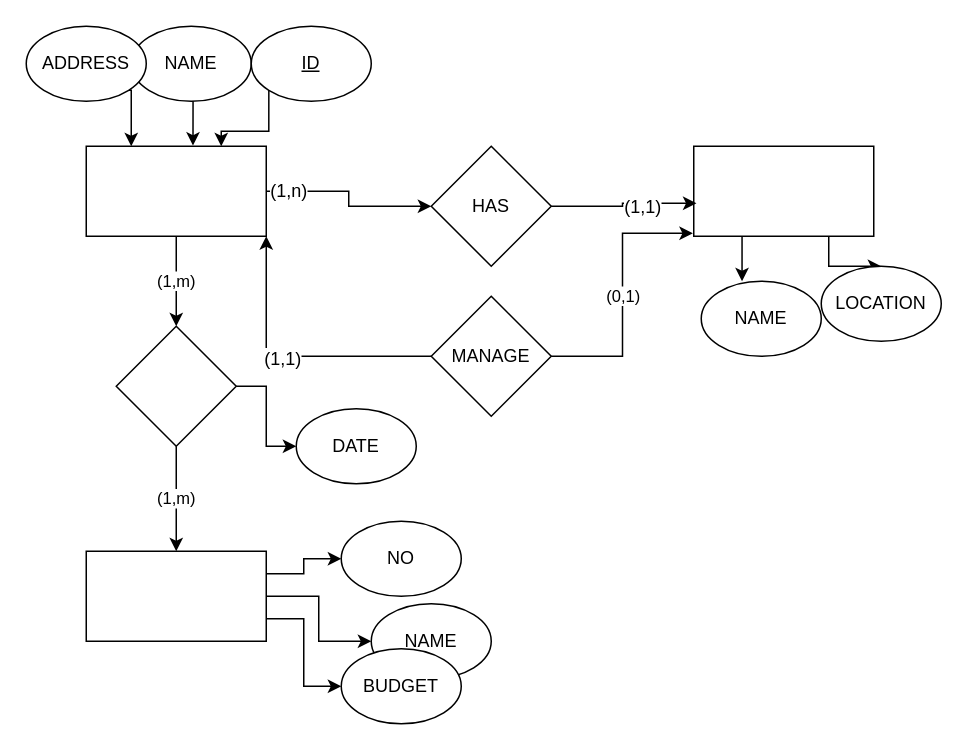
Image size: 968x750. Some labels were removed from this diagram. The shapes that lost their labels are listed below. From the top down, each one's centre as x and y in pixels, then its label:
At (175,190): "EMPLOYEE".
At (783,190): "DEPARTMENT``".
At (175,385): "WORK_IN".
At (175,595): "PROJECT".
